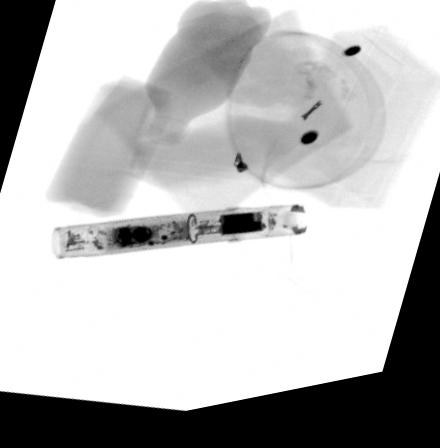Baton: (48, 214, 308, 262)
